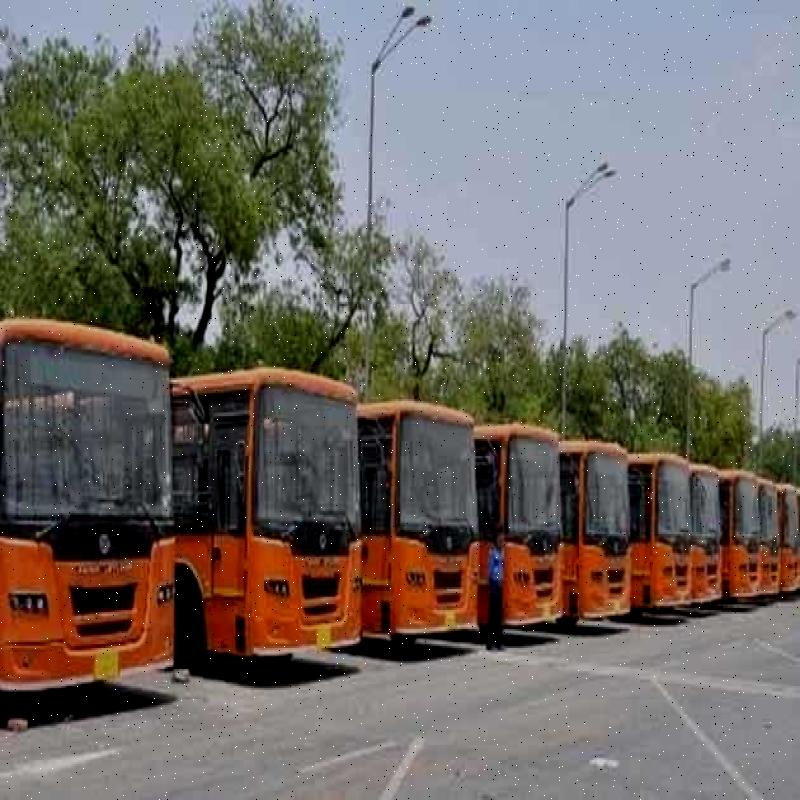bus: (0, 308, 180, 705), (236, 347, 370, 671), (384, 384, 488, 652), (496, 414, 566, 635), (572, 437, 632, 624), (643, 446, 695, 620), (724, 464, 764, 612)
